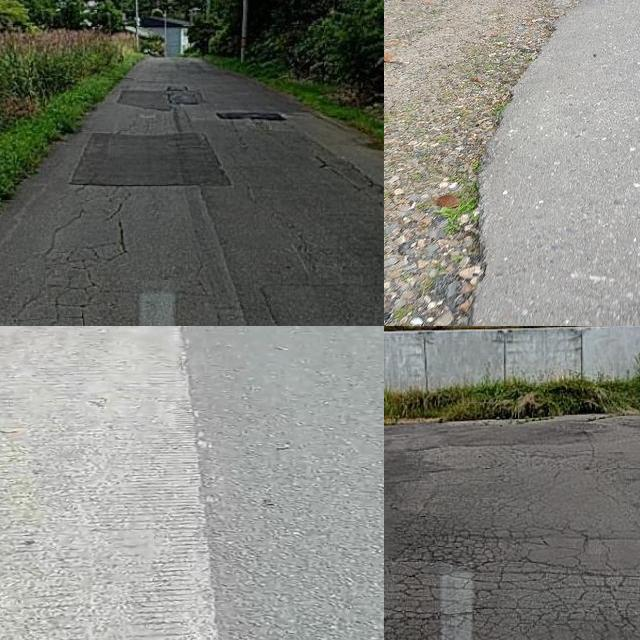Pinggir: (413, 0, 609, 326)
Retak Buaya: (384, 467, 640, 640)
Sambungan: (0, 326, 217, 640), (76, 129, 229, 188)
